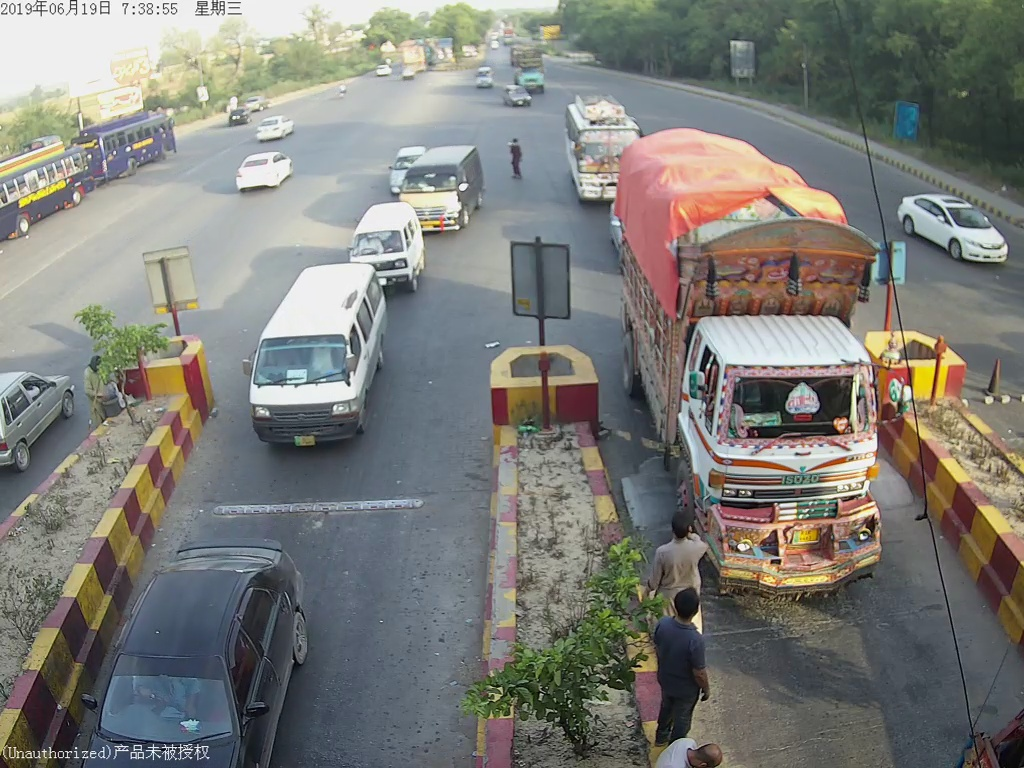Cat-1: (353, 204, 435, 290)
Cat-2: (250, 255, 397, 453), (400, 146, 489, 232)
Cat-3: (562, 91, 641, 206)
Cat-4: (614, 122, 887, 593)
